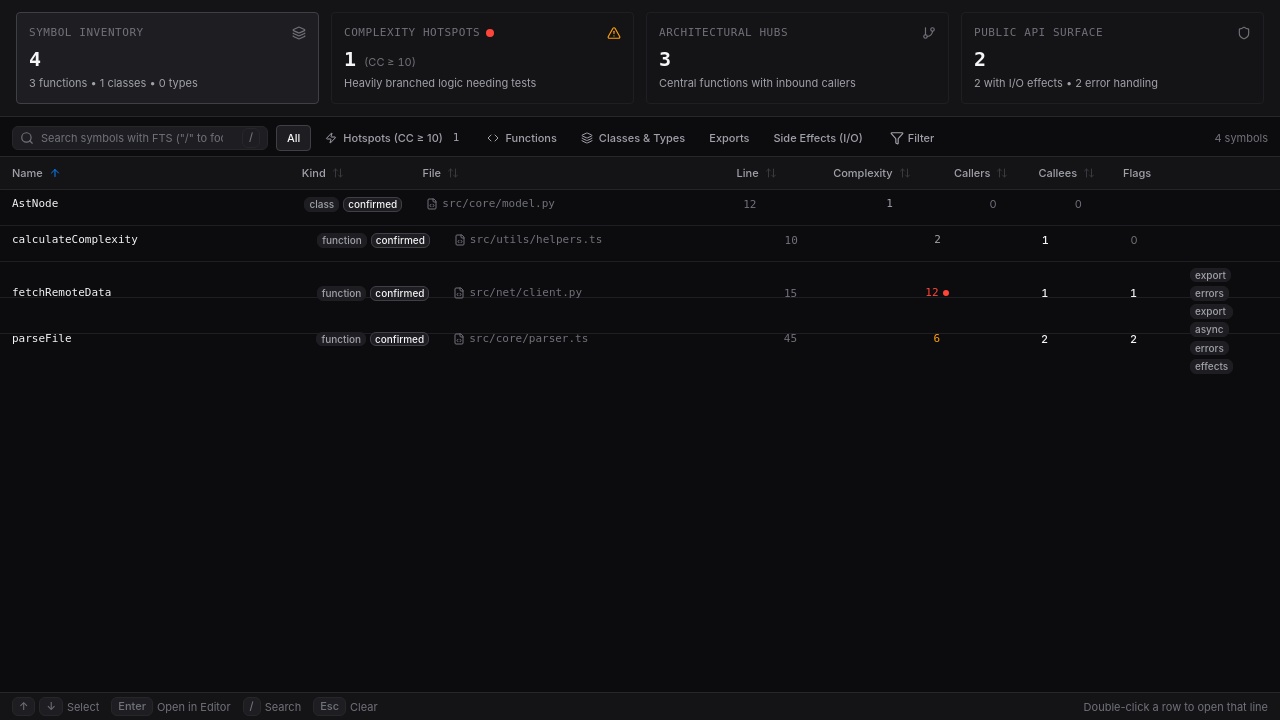
Scenario: CodeIntelligenceView Component › filters symbols by min complexity
Click the button "Filter" at point(912, 138), box [881,126,943,150]
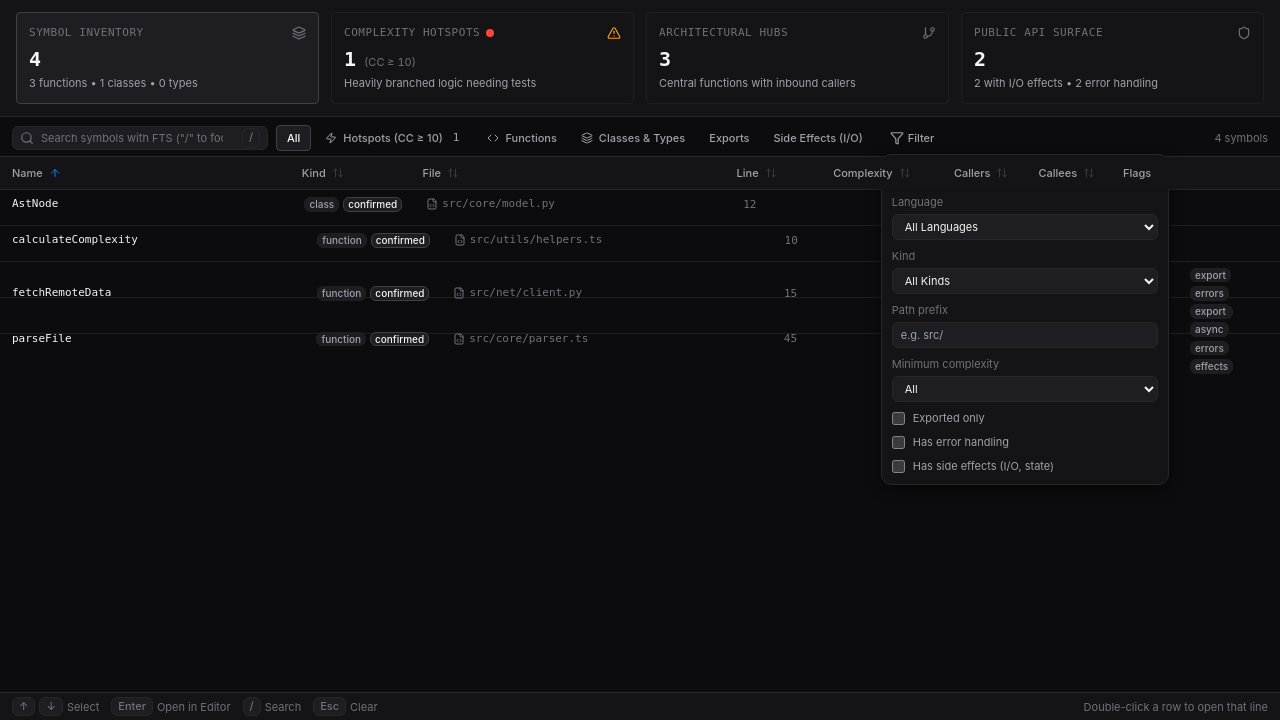
Select "≥ 5" in the dropdown with test id "filter-min-complexity" at point(1025, 389), box [892,376,1158,402]
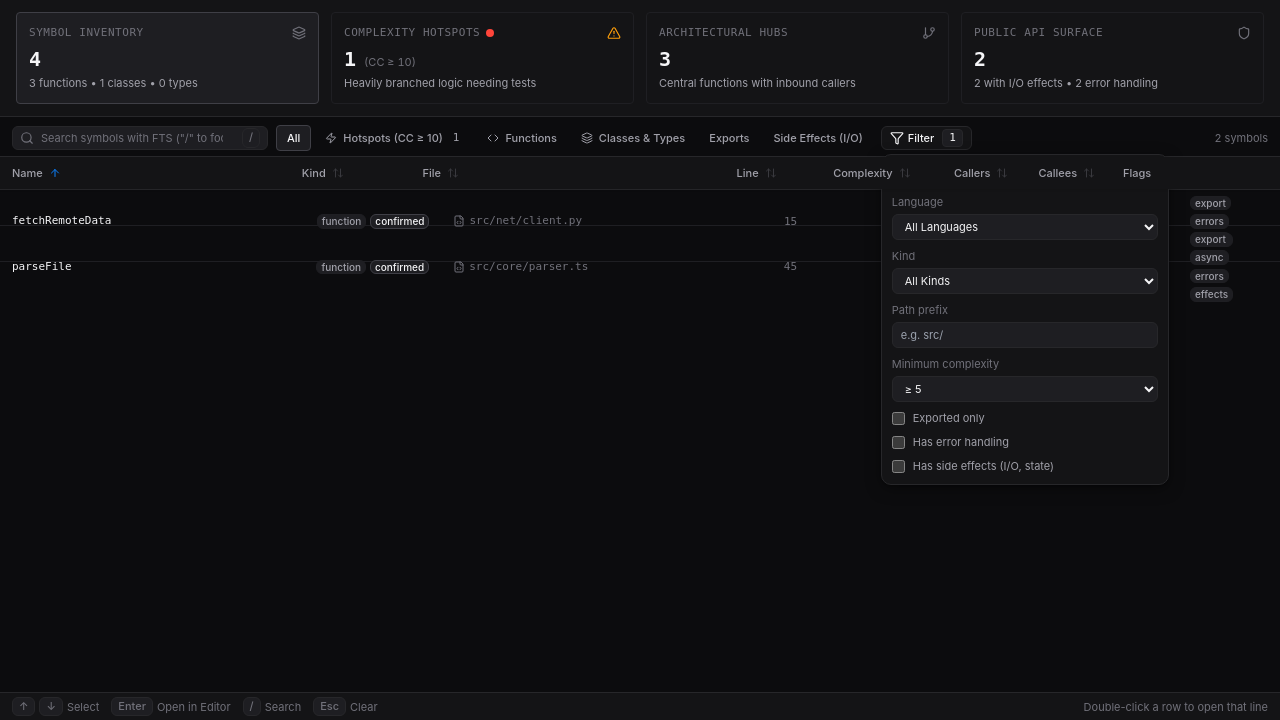
Expected: the text "fetchRemoteData" is shown, [12,213,111,229]
Expected: the text "AstNode" is gone
Expected: the text "calculateComplexity" is gone
Select "≥ 10 (Hotspot)" in the dropdown with test id "filter-min-complexity" at point(1025, 389), box [892,376,1158,402]
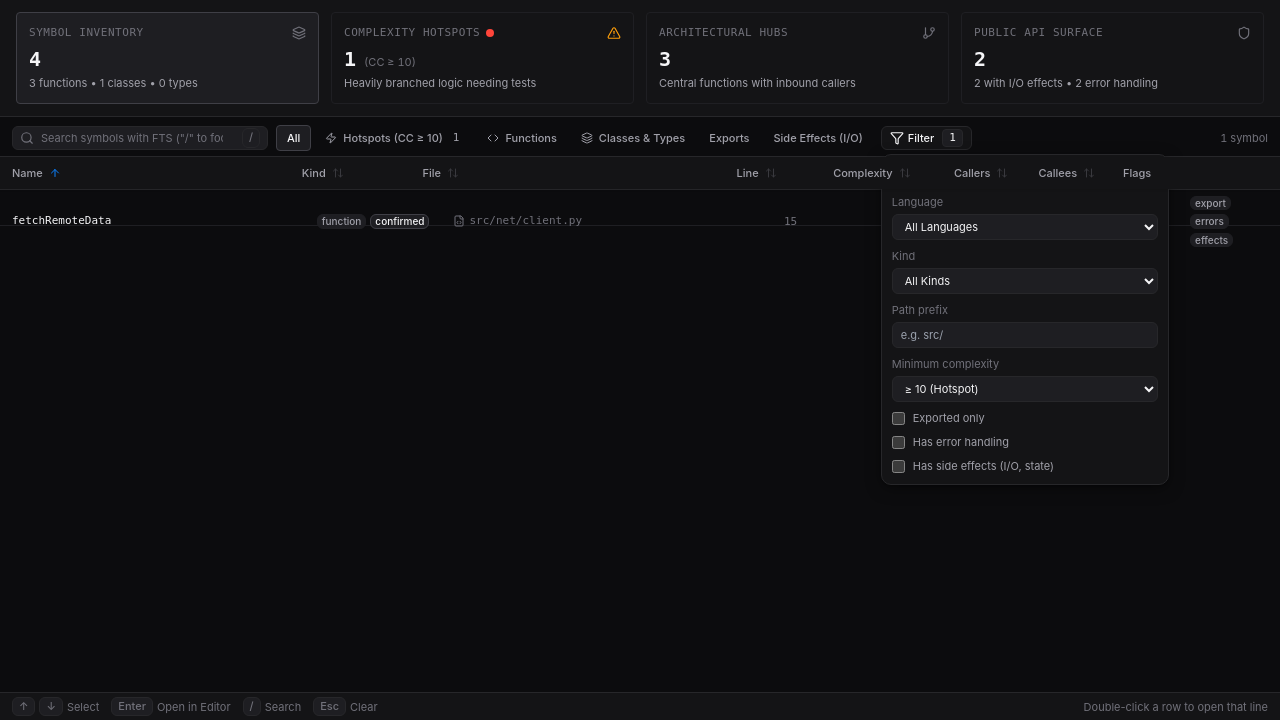
Expected: the text "fetchRemoteData" is shown, [12,213,111,229]
Expected: the text "parseFile" is gone
